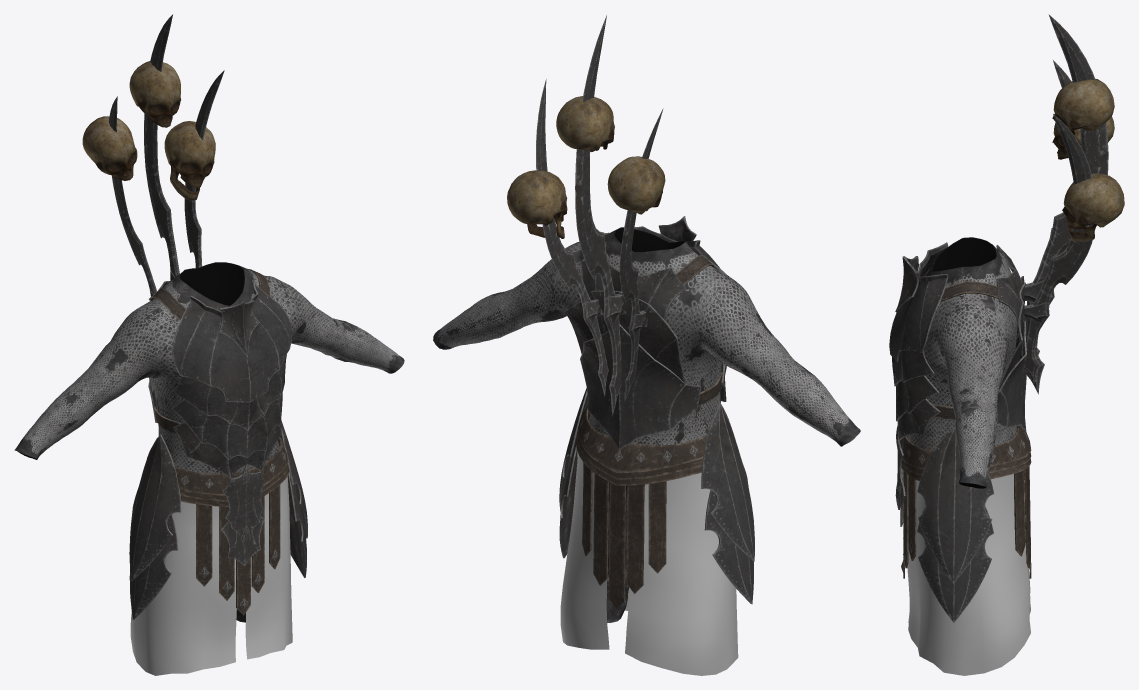
Rendered from sk_uruk_mordor_chainmail_captain_a2.fbx.
3 views of the same model, side by side, from view 1: azimuth 30°, elevation 25°; view 2: azimuth 150°, elevation 25°; view 3: azimuth 270°, elevation 25° (orthographic). The views are drawn at different scales.
Visible parts, largest first — view 1: sk_uruk_mordor_chainmail_captain_a2.1, sk_uruk_mordor_chainmail_captain_a2.3, sk_uruk_mordor_chainmail_captain_a2.0, sk_uruk_mordor_chainmail_captain_a2.2, sk_uruk_mordor_chainmail_captain_a2.4; view 2: sk_uruk_mordor_chainmail_captain_a2.1, sk_uruk_mordor_chainmail_captain_a2.0, sk_uruk_mordor_chainmail_captain_a2.2, sk_uruk_mordor_chainmail_captain_a2.3, sk_uruk_mordor_chainmail_captain_a2.4; view 3: sk_uruk_mordor_chainmail_captain_a2.1, sk_uruk_mordor_chainmail_captain_a2.0, sk_uruk_mordor_chainmail_captain_a2.2, sk_uruk_mordor_chainmail_captain_a2.3, sk_uruk_mordor_chainmail_captain_a2.4.
Boxes of the visible parts, x1,y1,x2,y2 form: sk_uruk_mordor_chainmail_captain_a2.1: (82,14,289,615); sk_uruk_mordor_chainmail_captain_a2.3: (148,280,292,566); sk_uruk_mordor_chainmail_captain_a2.0: (14,262,404,622); sk_uruk_mordor_chainmail_captain_a2.2: (130,476,292,675); sk_uruk_mordor_chainmail_captain_a2.4: (129,420,307,619); sk_uruk_mordor_chainmail_captain_a2.1: (507,15,722,609); sk_uruk_mordor_chainmail_captain_a2.0: (433,227,860,622); sk_uruk_mordor_chainmail_captain_a2.2: (560,451,738,675); sk_uruk_mordor_chainmail_captain_a2.3: (565,216,726,450); sk_uruk_mordor_chainmail_captain_a2.4: (559,388,754,604); sk_uruk_mordor_chainmail_captain_a2.1: (900,14,1124,578); sk_uruk_mordor_chainmail_captain_a2.0: (907,237,1017,488); sk_uruk_mordor_chainmail_captain_a2.2: (907,474,1030,675); sk_uruk_mordor_chainmail_captain_a2.3: (889,242,1026,526); sk_uruk_mordor_chainmail_captain_a2.4: (917,427,994,622).
Size of the model in its own units: 1.37 by 0.708 by 2.08.
